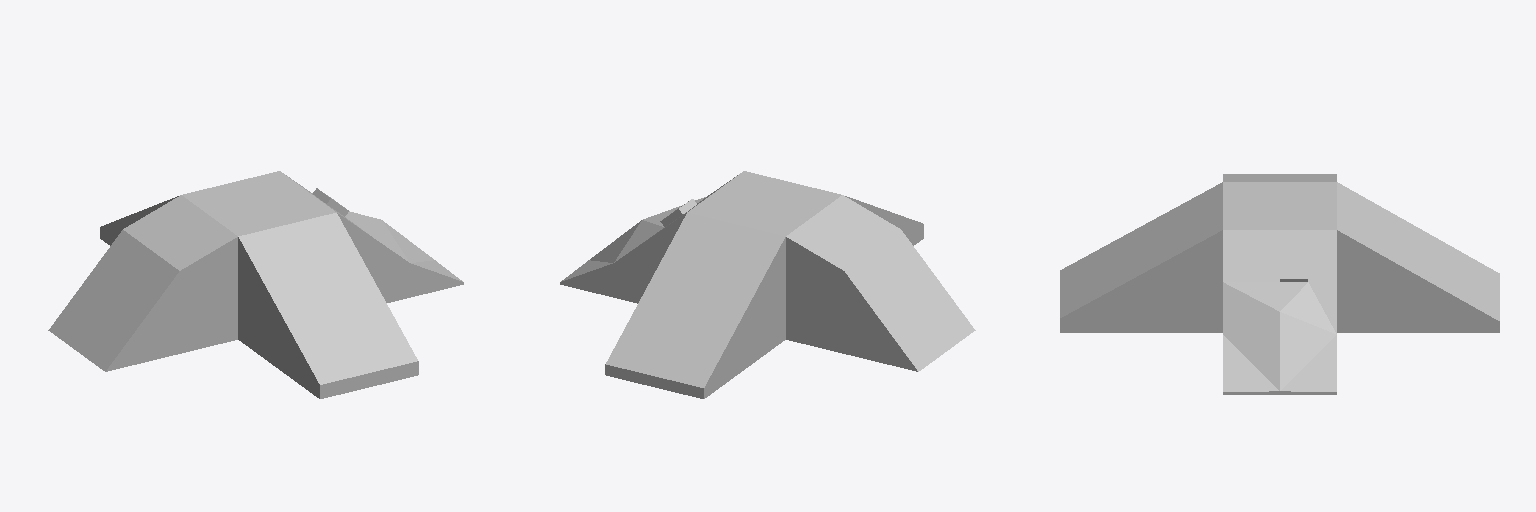
Rendered from Spaceship.obj.
3 renders of one model, left to right at view 1: azimuth 30°, elevation 25°; view 2: azimuth 150°, elevation 25°; view 3: azimuth 270°, elevation 25°, orthographic.
Bounding box in the file's own units: 7.27 × 2 × 7.75.